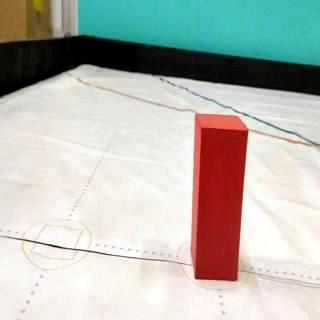redbox: (189, 114, 247, 282)
